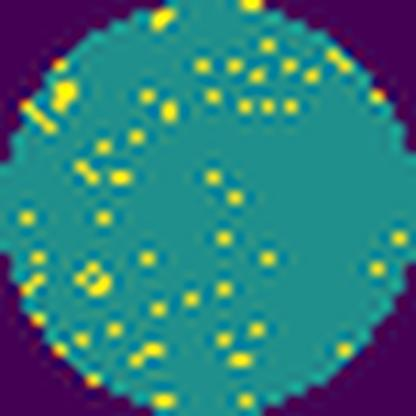Loc: (76, 256, 118, 302), (52, 78, 82, 116)
